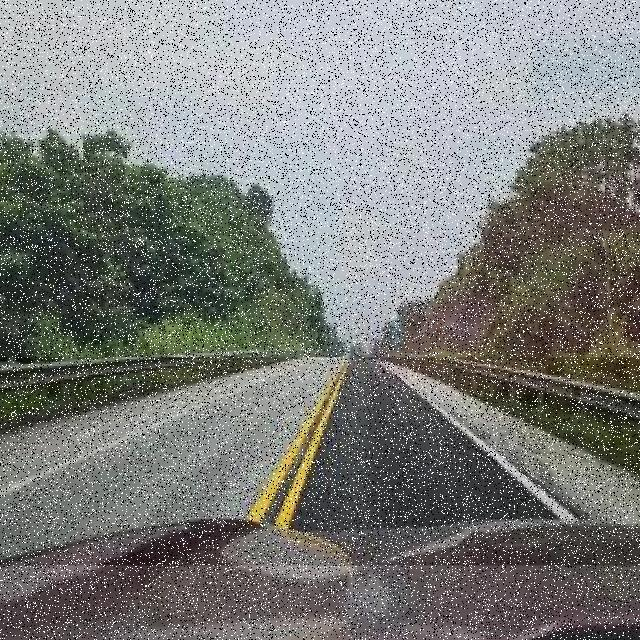clear-road: (0, 359, 640, 564)
